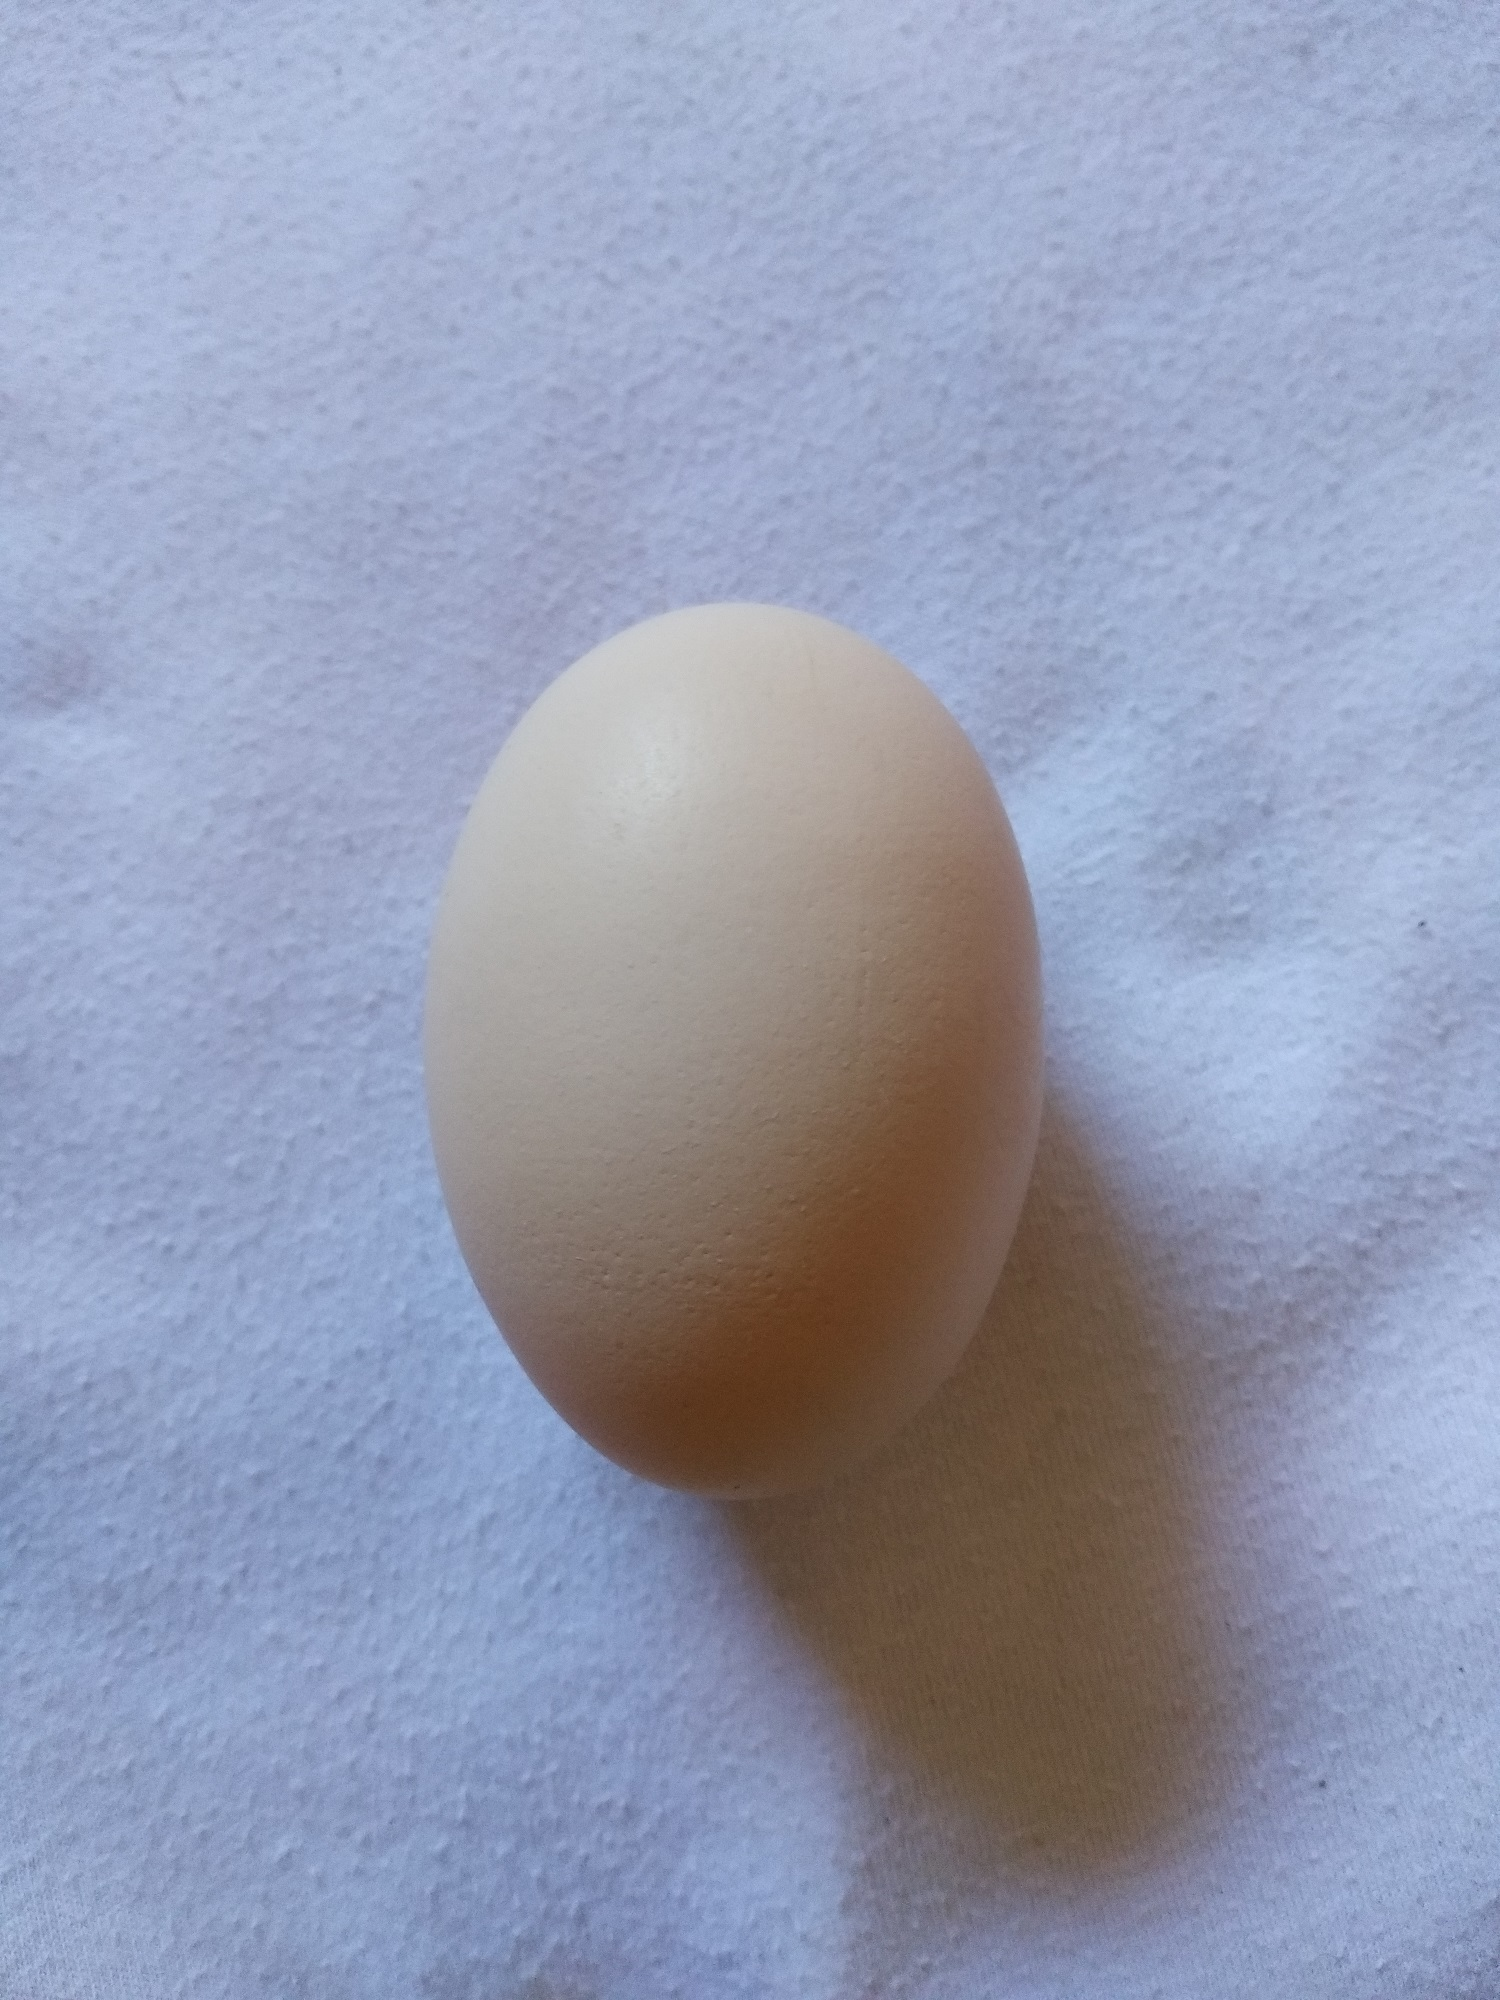Male: (418, 594, 1056, 1513)
